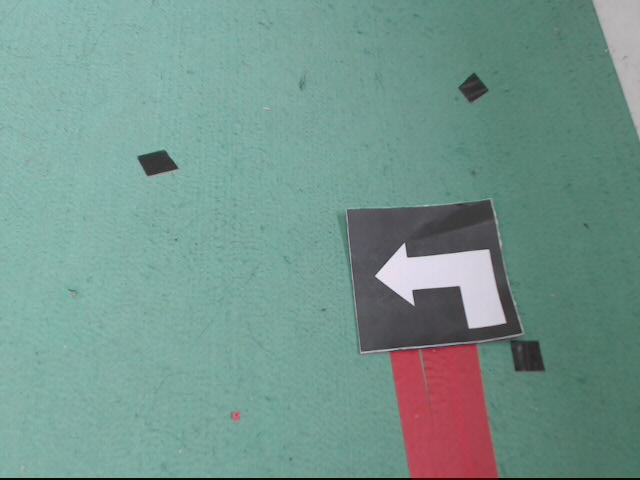left: (346, 197, 524, 353)
